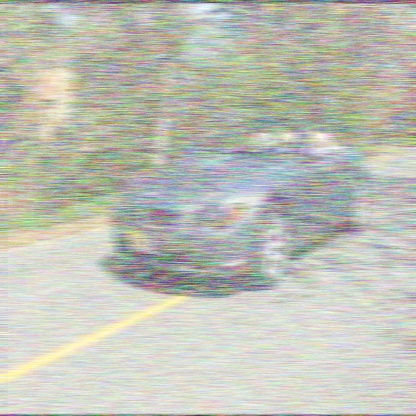Vehicle: (112, 114, 370, 288)
